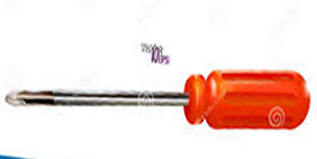Screwdriver: (2, 60, 317, 139)
